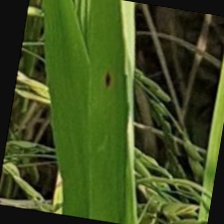Bacterial_Leaf_Blight: (102, 64, 116, 92)
